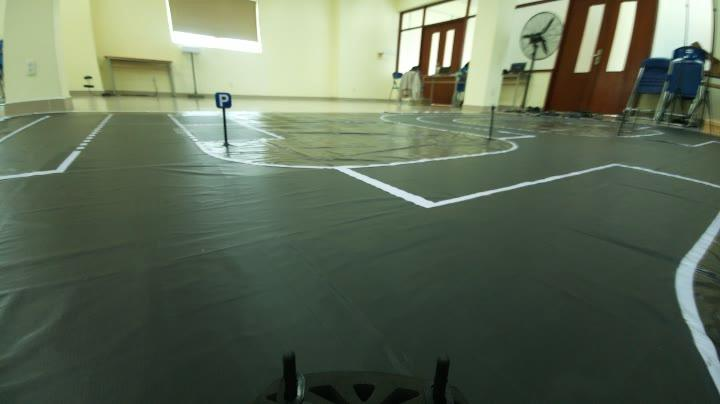parking: (212, 90, 236, 111)
